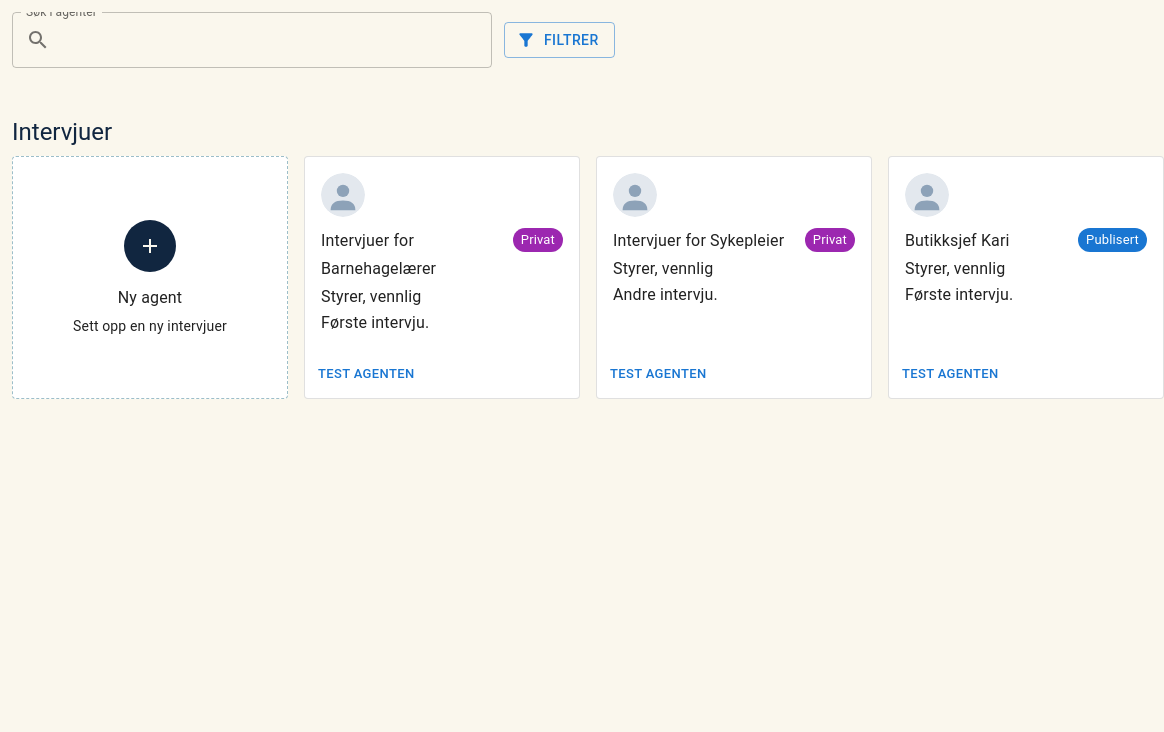
Scenario: AgentList › filters › hides the dropdowns until Filtrer is opened
Expected: the dropdown labelled "Rolle" is not shown
Click the button "Filtrer" at coordinates (559, 40), box [504,22,614,58]
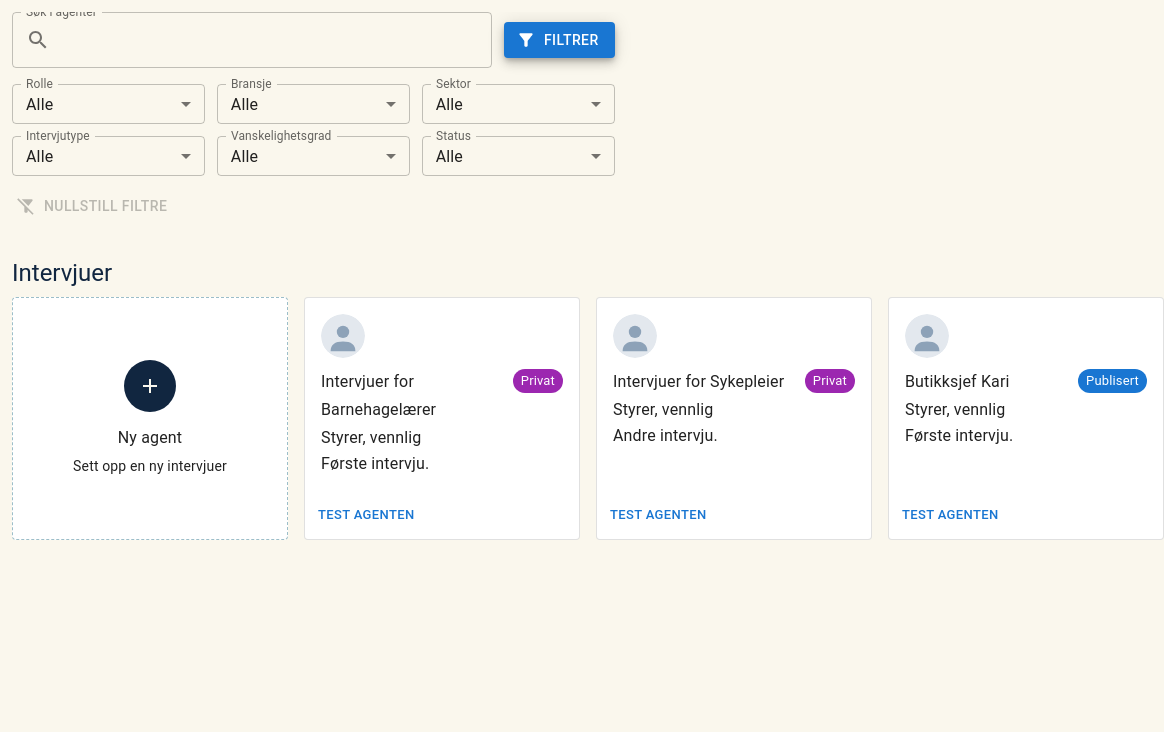
Expected: the button "Filtrer" is expanded, [504,22,614,58]
Expected: the dropdown named "Rolle" is shown, [26,94,53,114]
